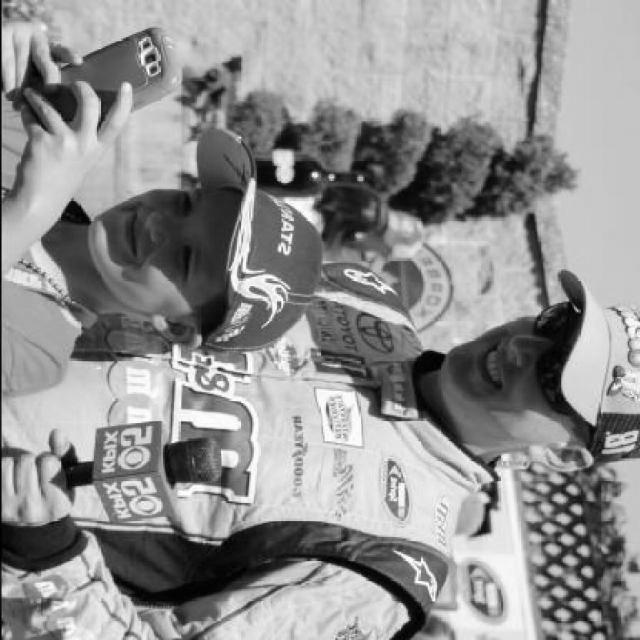fake: (42, 12, 180, 125)
